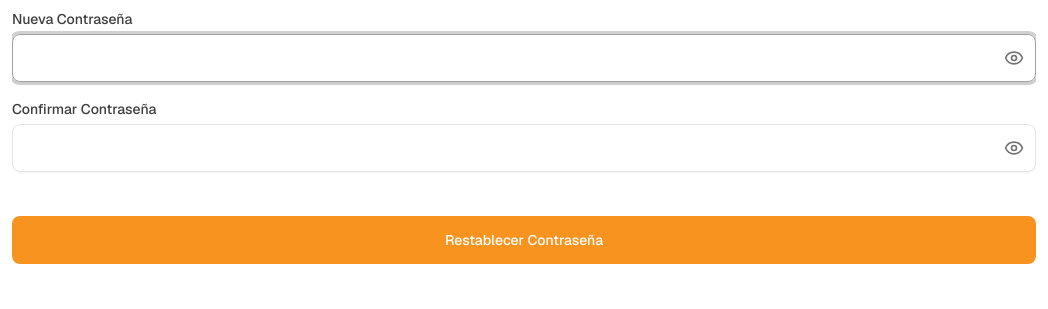
Test: PasswordConfirmForm › Form Validation › shows error when passwords do not match
Type "password123" into the password field labelled "Nueva Contraseña" at (524, 58), box [12,34,1036,82]
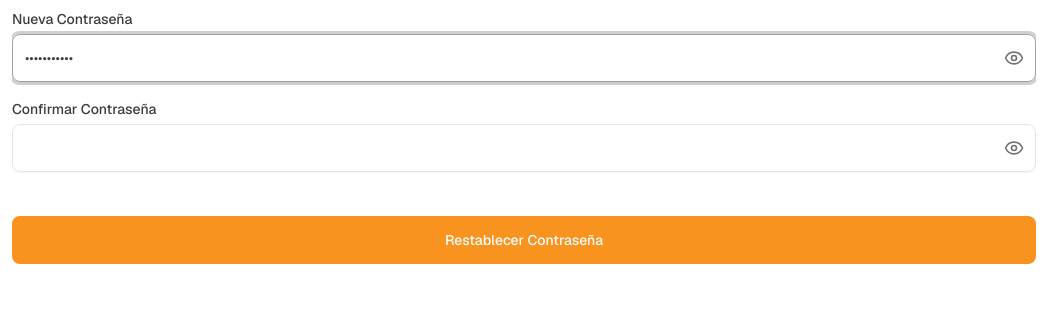
Type "password456" into the password field labelled "Confirmar Contraseña" at (524, 148), box [12,124,1036,172]
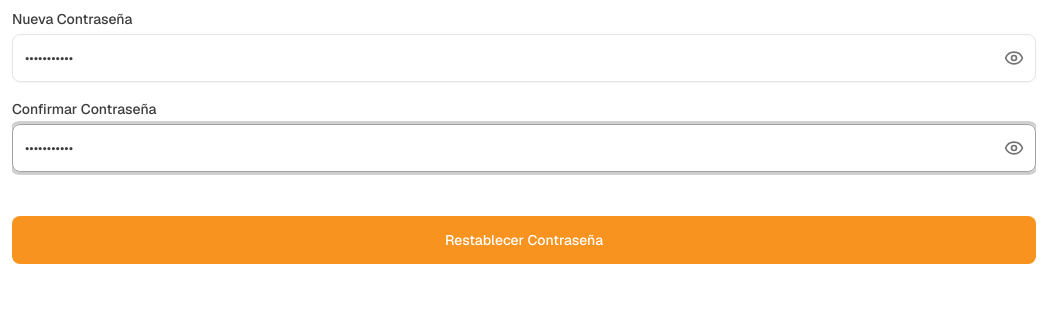
Click the button "Restablecer Contraseña" at (524, 240), box [12,216,1036,264]
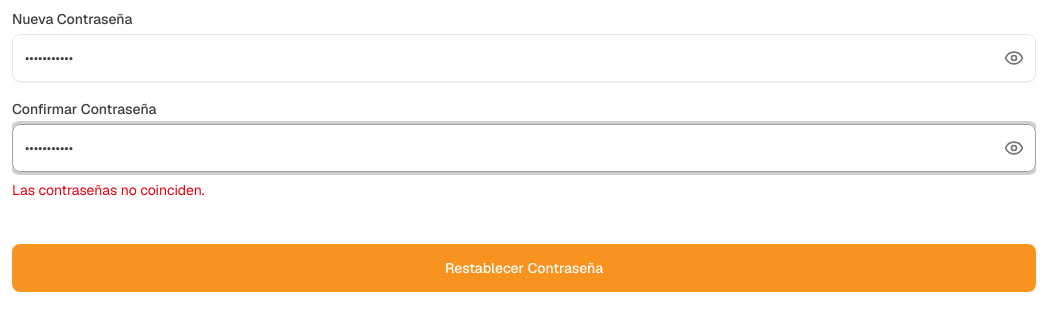
Check: the text "Las contraseñas no coinciden." is shown, box [12,181,205,199]
